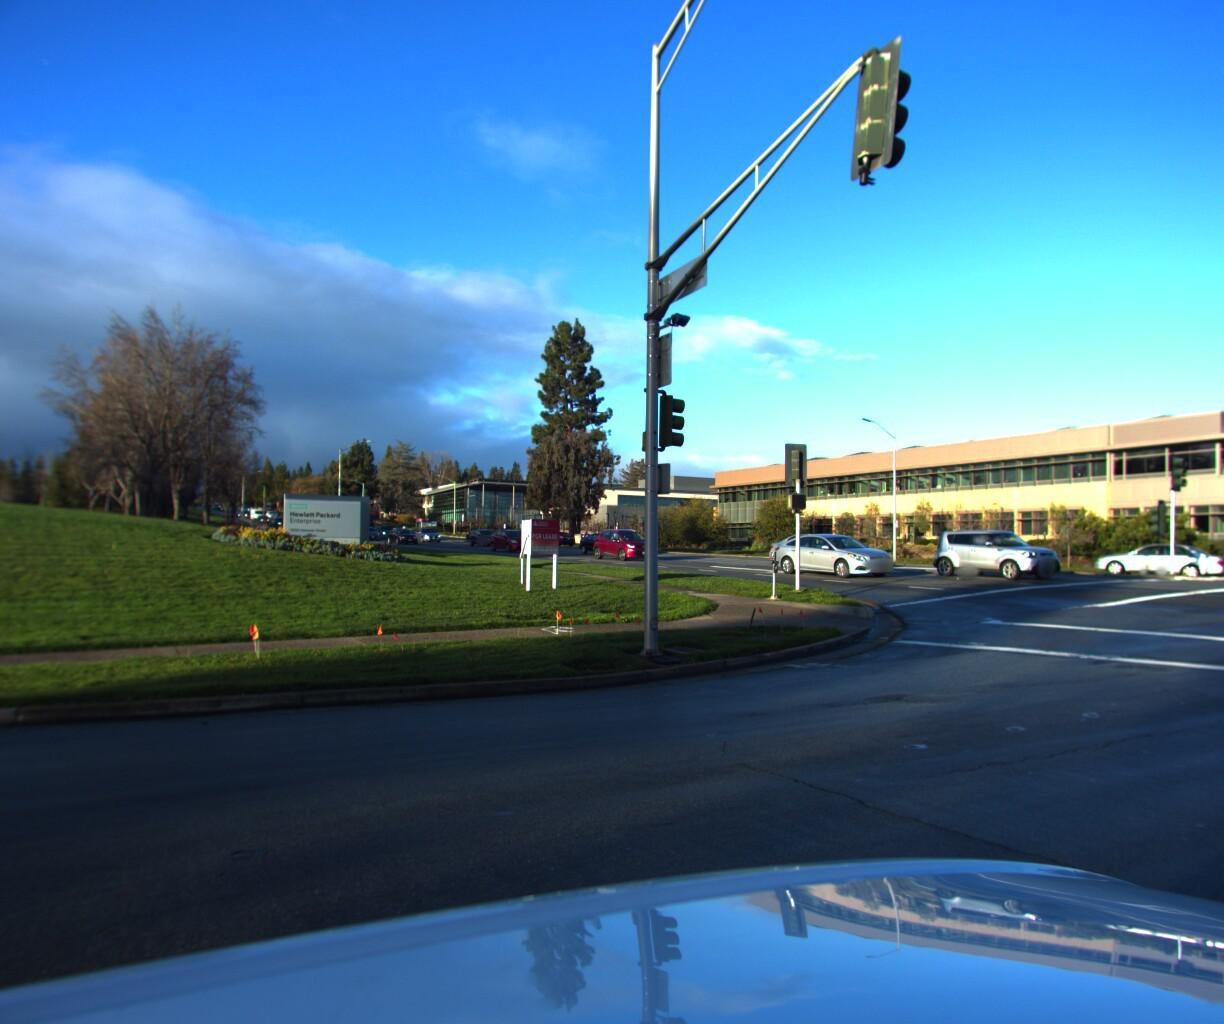car: (925, 525, 1065, 578), (767, 529, 900, 576), (1086, 539, 1224, 578), (763, 528, 875, 568), (589, 526, 658, 559), (488, 528, 539, 553), (388, 528, 422, 545), (541, 524, 575, 540), (412, 527, 441, 542)
